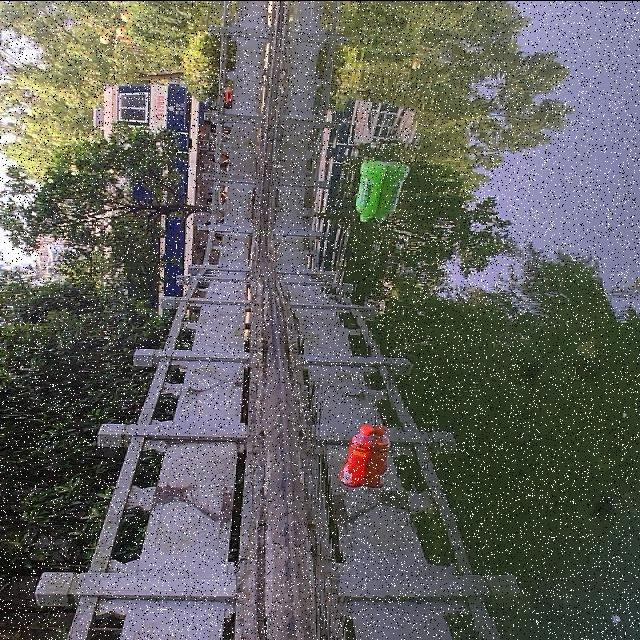Bottle: (333, 414, 386, 492), (351, 156, 398, 226)
